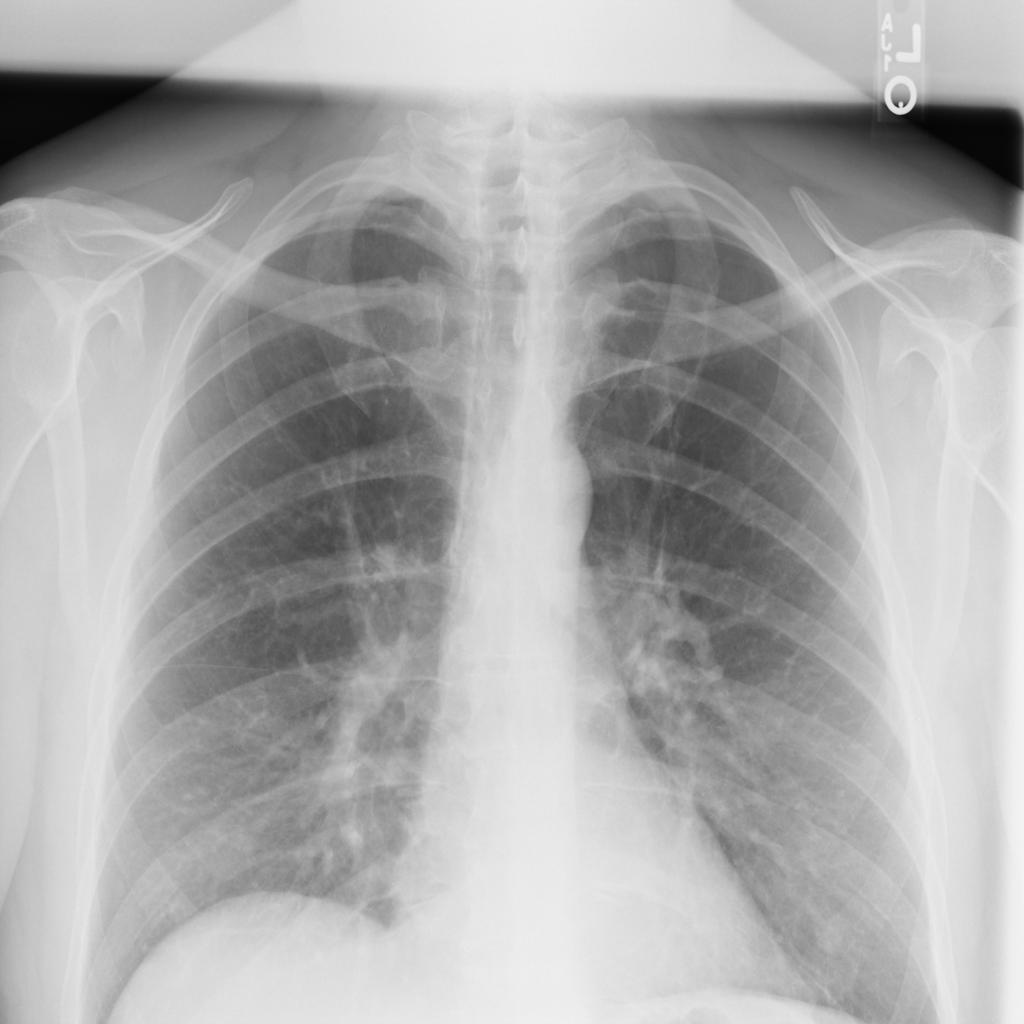nodule: (801, 895, 865, 972)
